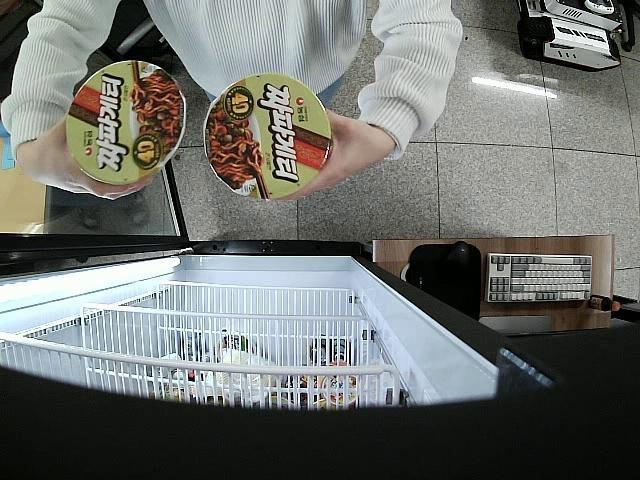03_chapagetti_L: (204, 73, 330, 202), (66, 60, 188, 185)
